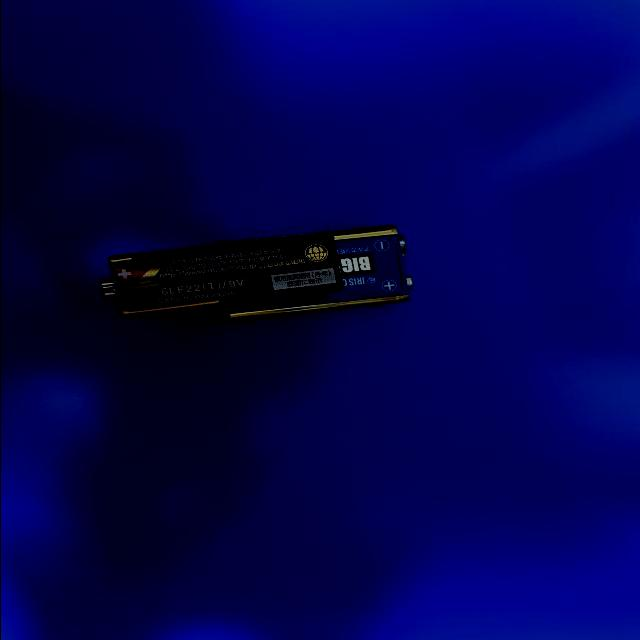9V: (98, 232, 343, 320), (215, 225, 417, 322)
